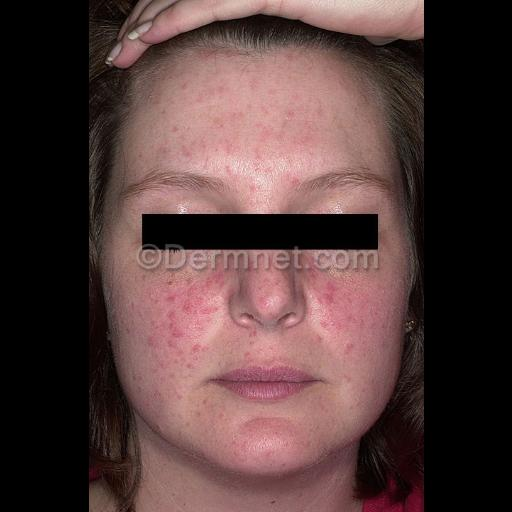Skin_Lesion: (177, 279, 217, 321), (164, 331, 200, 363), (320, 282, 346, 314), (179, 140, 203, 164), (248, 148, 268, 166), (162, 294, 178, 316), (344, 340, 358, 364), (290, 130, 308, 148), (258, 299, 274, 313), (219, 143, 235, 157), (216, 85, 230, 99)
